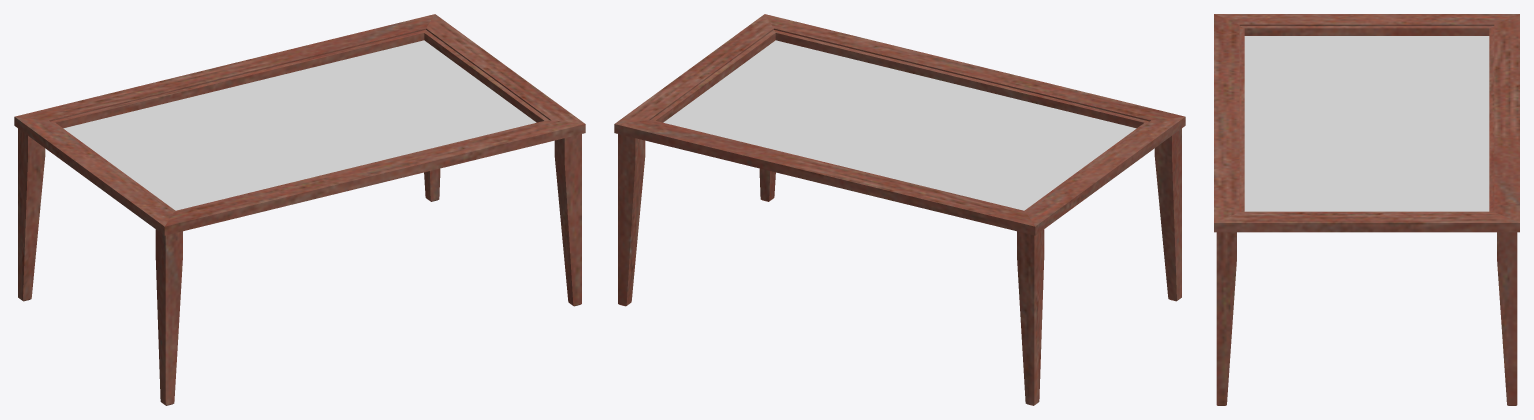
The model's file is Wooden Table.fbx.
3 views of the same model, side by side, from view 1: azimuth 30°, elevation 25°; view 2: azimuth 150°, elevation 25°; view 3: azimuth 270°, elevation 25° (orthographic).
Visible parts, largest first — view 1: Wood.001; view 2: Wood.001; view 3: Wood.001.
Part boxes in pixels (left/top/right/bottom): Wood.001: left=14, top=14, right=585, bottom=405; Wood.001: left=614, top=14, right=1185, bottom=405; Wood.001: left=1214, top=14, right=1519, bottom=405.
Bounding box in the file's own units: 285 × 118 × 176.
2 materials, 1 textured.
